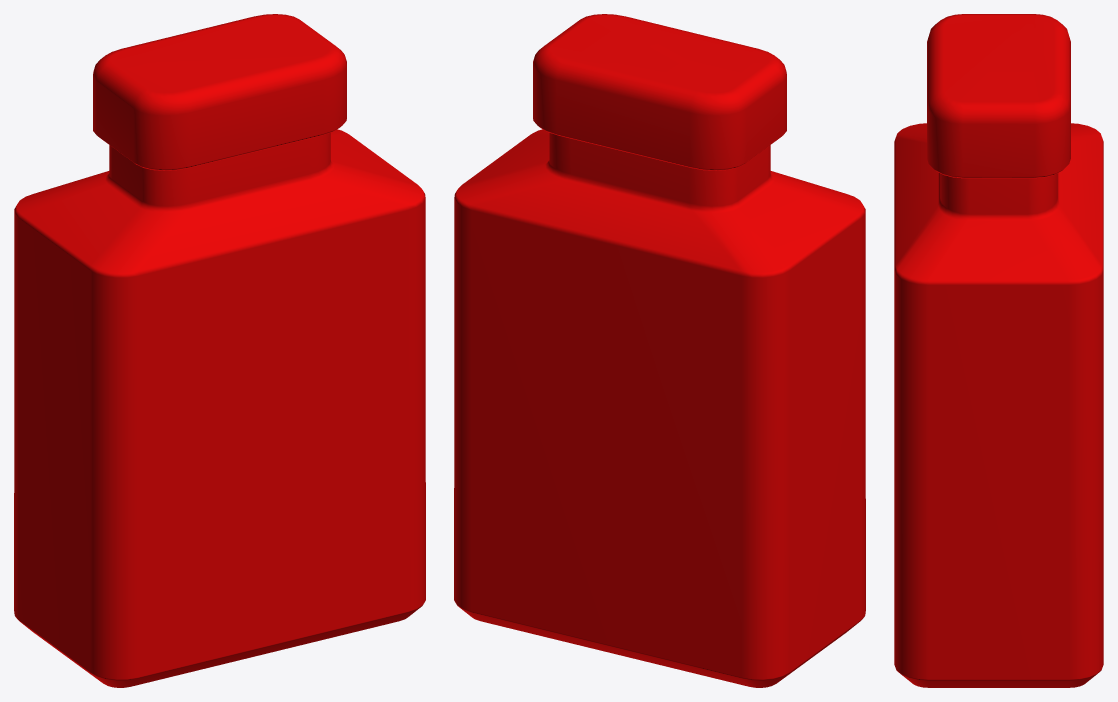
File: Package_5.fbx
The picture shows the model from 3 angles, left to right: view 1: azimuth 30°, elevation 25°; view 2: azimuth 150°, elevation 25°; view 3: azimuth 270°, elevation 25°; orthographic projection.
Visible parts, largest first — view 1: L7:polySurface8; view 2: L7:polySurface8; view 3: L7:polySurface8.
Part boxes in pixels (x1,y1,x2,y2): L7:polySurface8: (14, 14, 425, 687); L7:polySurface8: (454, 14, 865, 687); L7:polySurface8: (894, 14, 1103, 687).
Size of the model in its own units: 14.97 by 24.51 by 8.33.
